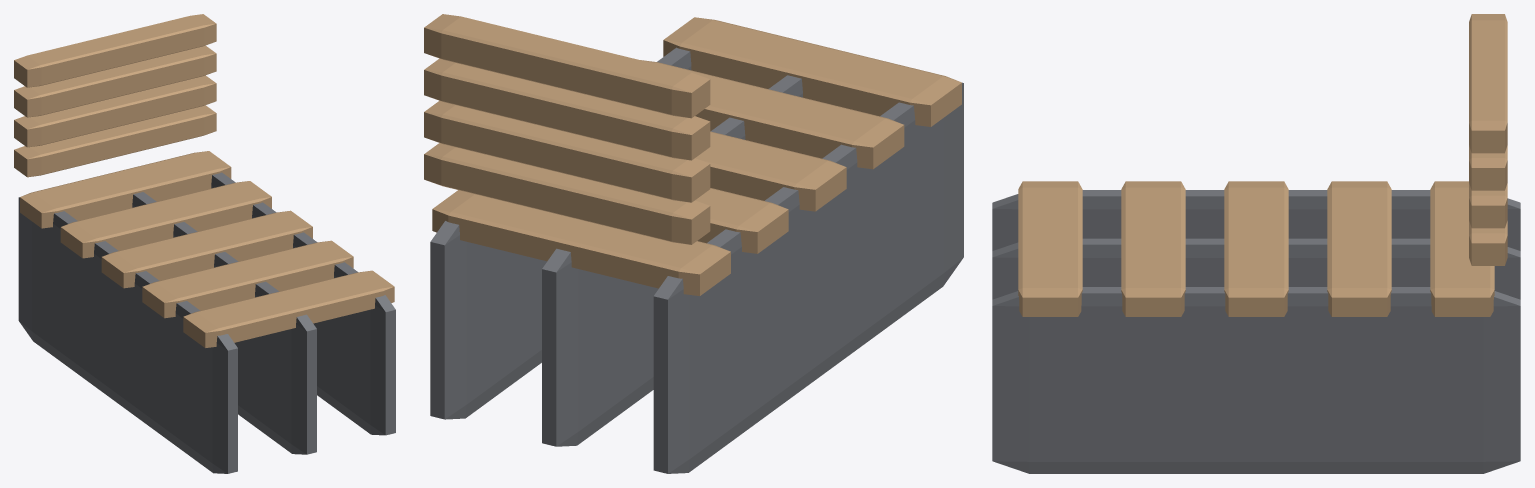
The model's file is b01_timber_chaise_public_seat.glb.
3 renders of one model, left to right at view 1: azimuth 30°, elevation 25°; view 2: azimuth 150°, elevation 25°; view 3: azimuth 270°, elevation 25°, orthographic. The views are drawn at different scales.
Parts seen in each view (by area): view 1: b01_timber_chaise_public_seat; view 2: b01_timber_chaise_public_seat; view 3: b01_timber_chaise_public_seat.
Part boxes in pixels (x1,y1,x2,y2): b01_timber_chaise_public_seat: (14, 14, 395, 473); b01_timber_chaise_public_seat: (424, 14, 963, 473); b01_timber_chaise_public_seat: (992, 14, 1520, 473).
Bounding box in the file's own units: 0.72 × 1.01 × 1.38.
